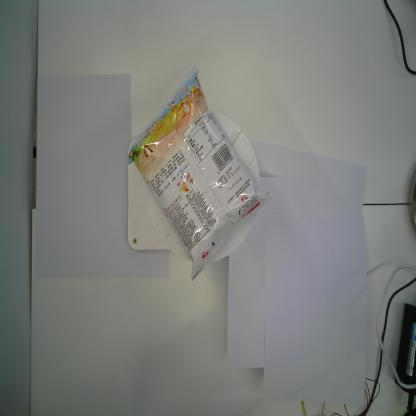Puffed Food: (126, 66, 274, 282)
